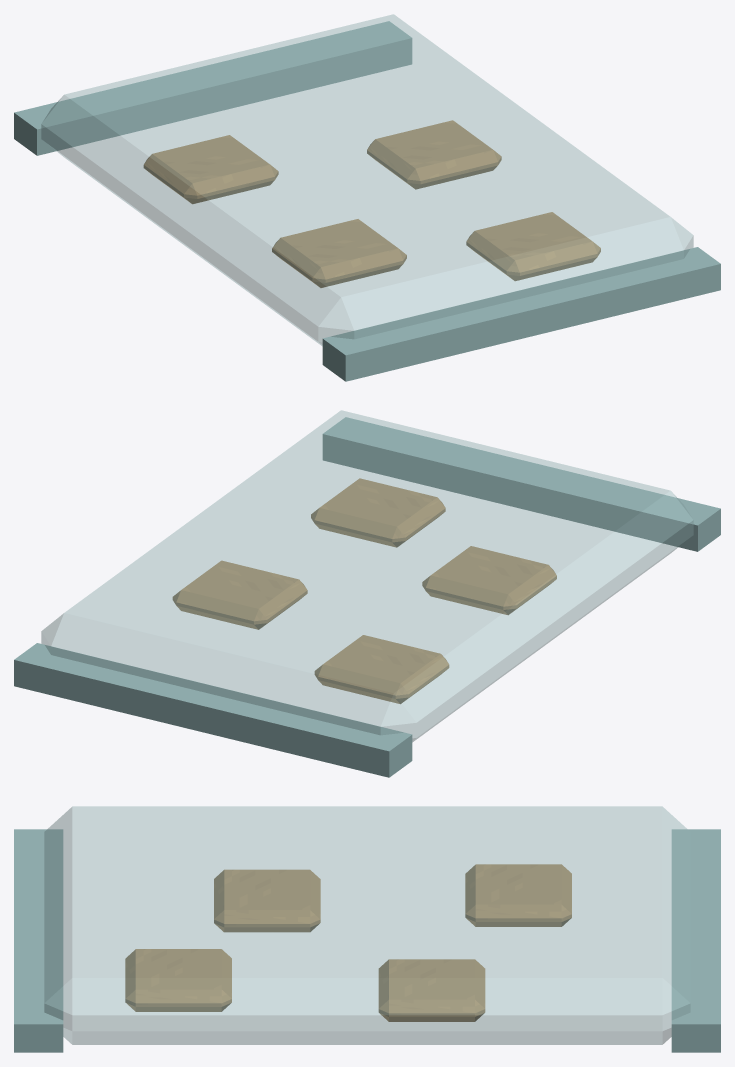
The model's file is plastic_bag_vac.glb.
The picture shows the model from 3 angles, top to bottom: view 1: azimuth 30°, elevation 25°; view 2: azimuth 150°, elevation 25°; view 3: azimuth 270°, elevation 25°; orthographic projection. The views are drawn at different scales.
Visible parts, largest first — view 1: block_sealed pouch, block_sealed ends (×2), block_vacuum-packed contents (×4); view 2: block_sealed pouch, block_sealed ends (×2), block_vacuum-packed contents (×4); view 3: block_sealed pouch, block_vacuum-packed contents (×4), block_sealed ends (×2).
Boxes of the visible parts, x1,y1,x2,y2 form: block_sealed pouch: (41, 14, 693, 346); block_sealed ends (×2): (14, 21, 720, 381); block_vacuum-packed contents (×4): (143, 120, 600, 287); block_sealed pouch: (41, 410, 693, 742); block_sealed ends (×2): (14, 417, 720, 777); block_vacuum-packed contents (×4): (172, 478, 556, 703); block_sealed pouch: (44, 806, 690, 1044); block_vacuum-packed contents (×4): (125, 864, 571, 1021); block_sealed ends (×2): (14, 829, 720, 1052).
Size of the model in its own units: 0.0265 by 0.00424 by 0.0405.
Materials: 2 (2 with a texture image).
